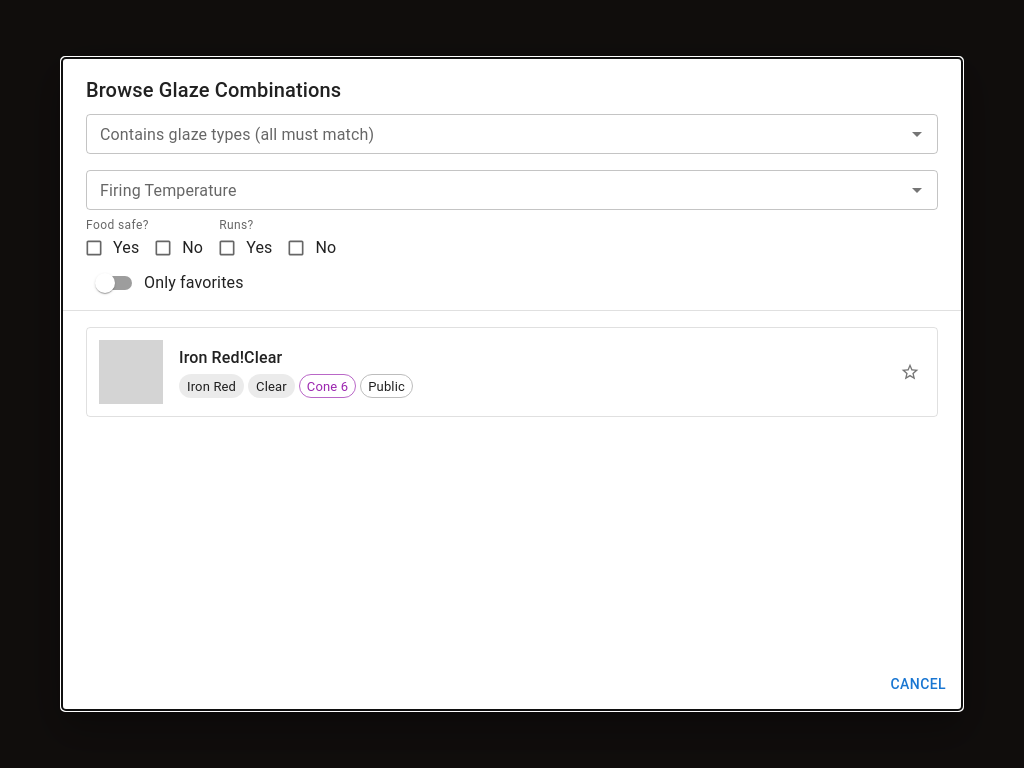
Test: GlobalEntryDialog › shows an error when toggling favorites fails
Step 1. Click the button named "Add to favorites" → (910, 372), box [895, 357, 925, 387]
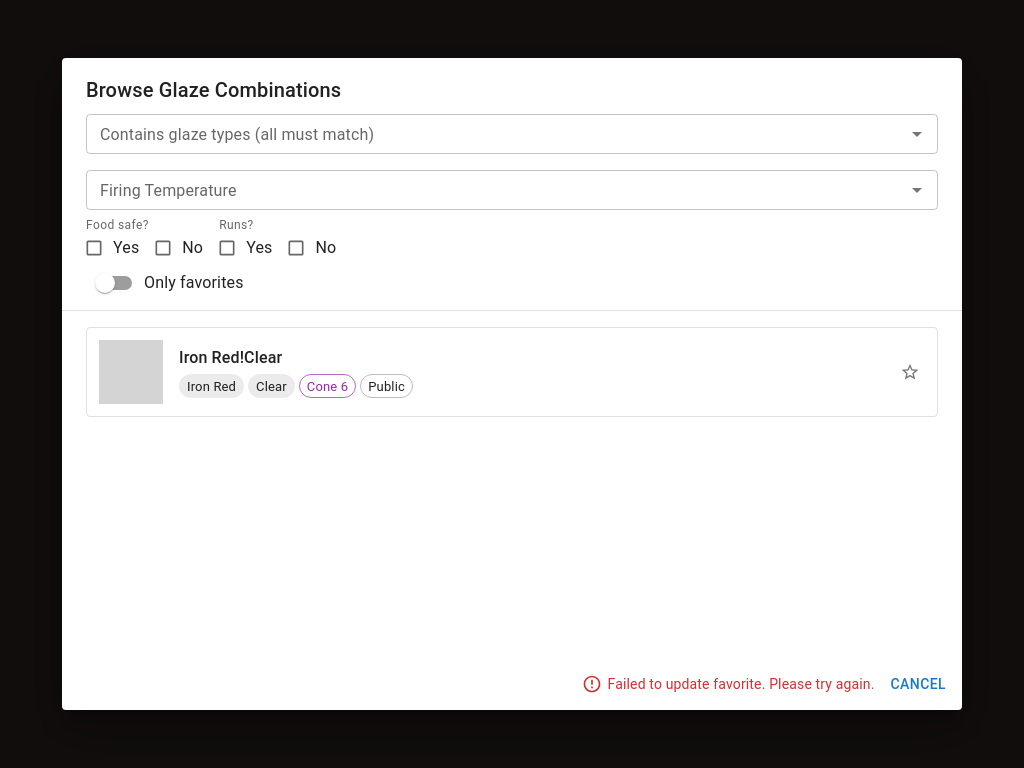
expect the text "Failed to update favorite. Please try again." is shown: met, box [608, 674, 874, 694]
